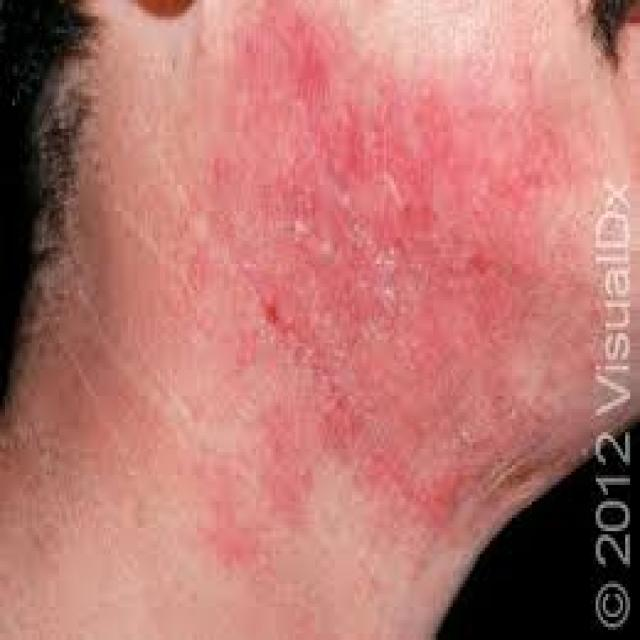Eczema: (218, 32, 556, 499)
